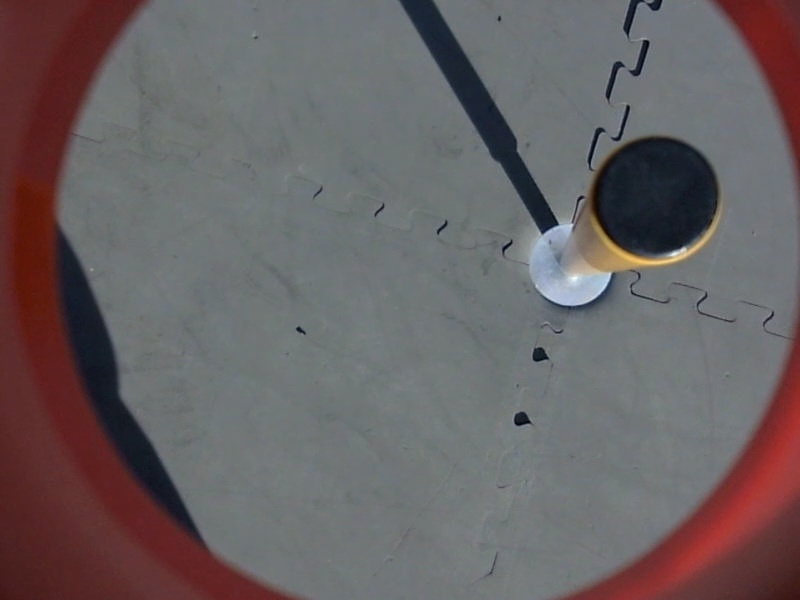tip: (586, 131, 727, 269)
